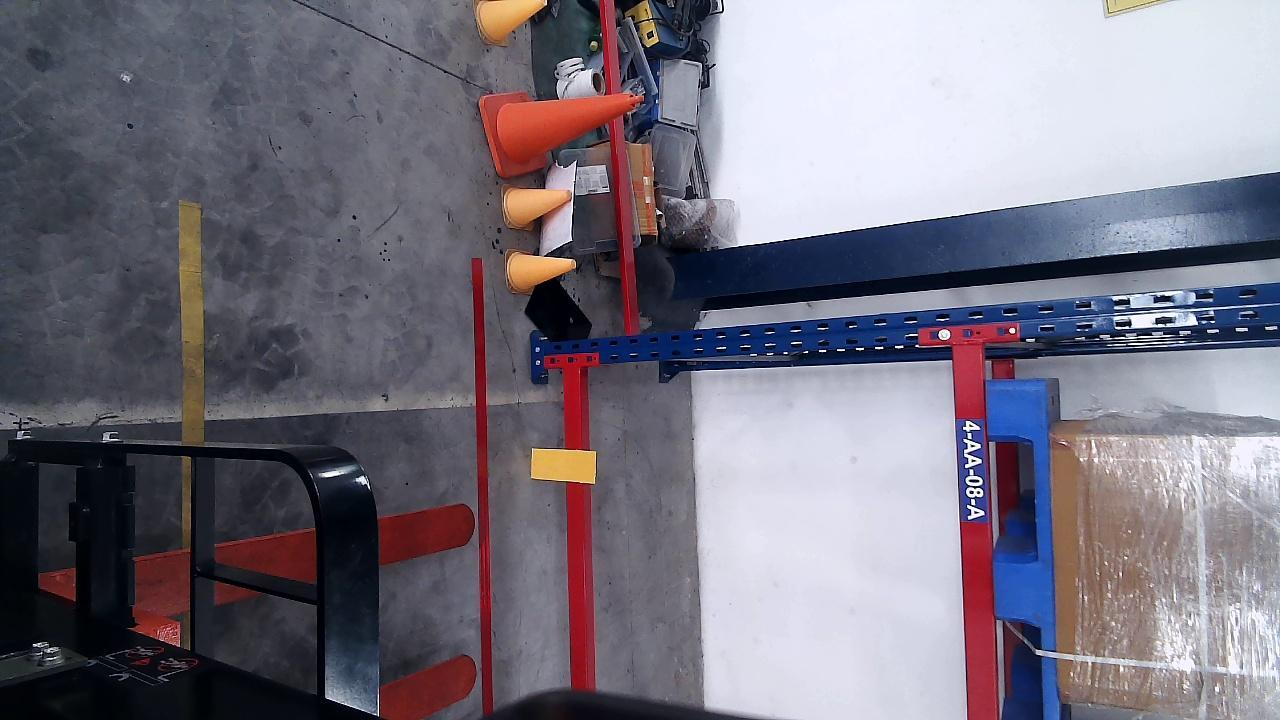h_rack: (950, 342, 1000, 719), (563, 364, 593, 689)
orange_strip: (531, 450, 594, 483)
red_line: (470, 255, 496, 713)
small_pallet: (989, 384, 1056, 719)
yellow_line: (178, 202, 205, 442)
